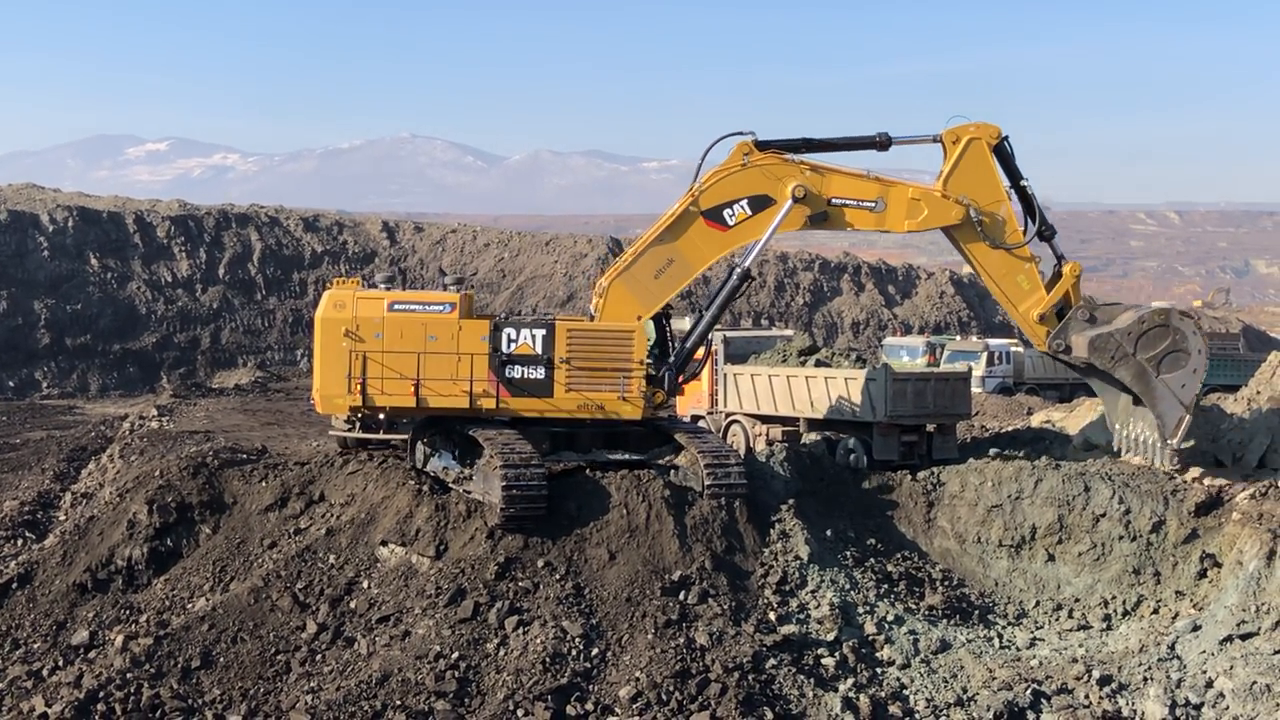empty: (1036, 283, 1207, 473)
